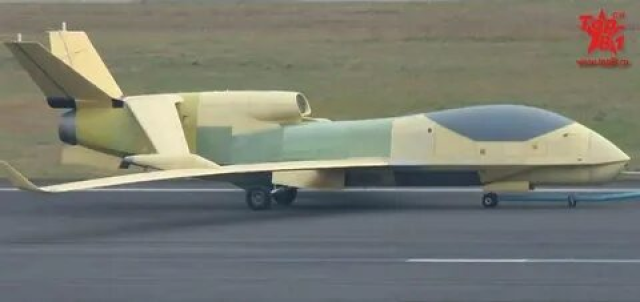military drone: (2, 20, 631, 210)
